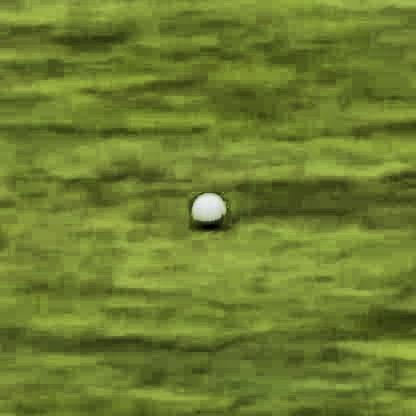golfball: (190, 187, 223, 223)
